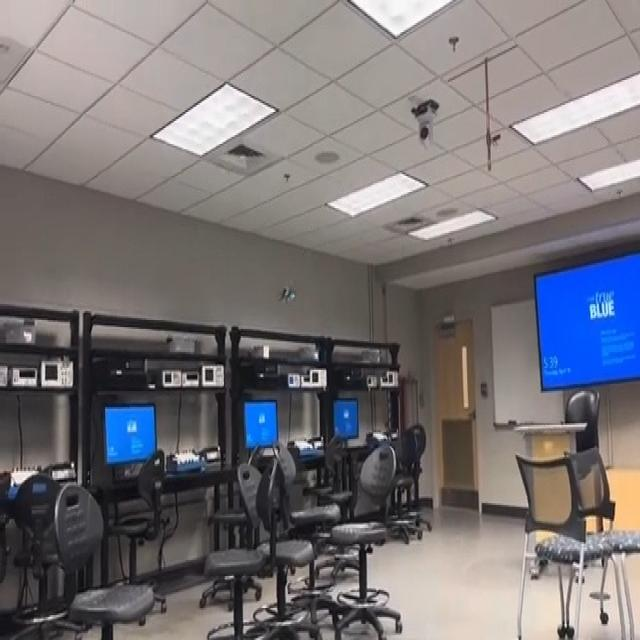drone: (270, 268, 303, 313)
